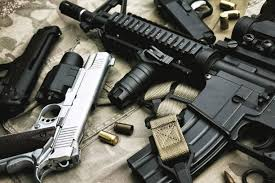Gun: (10, 11, 259, 161)
